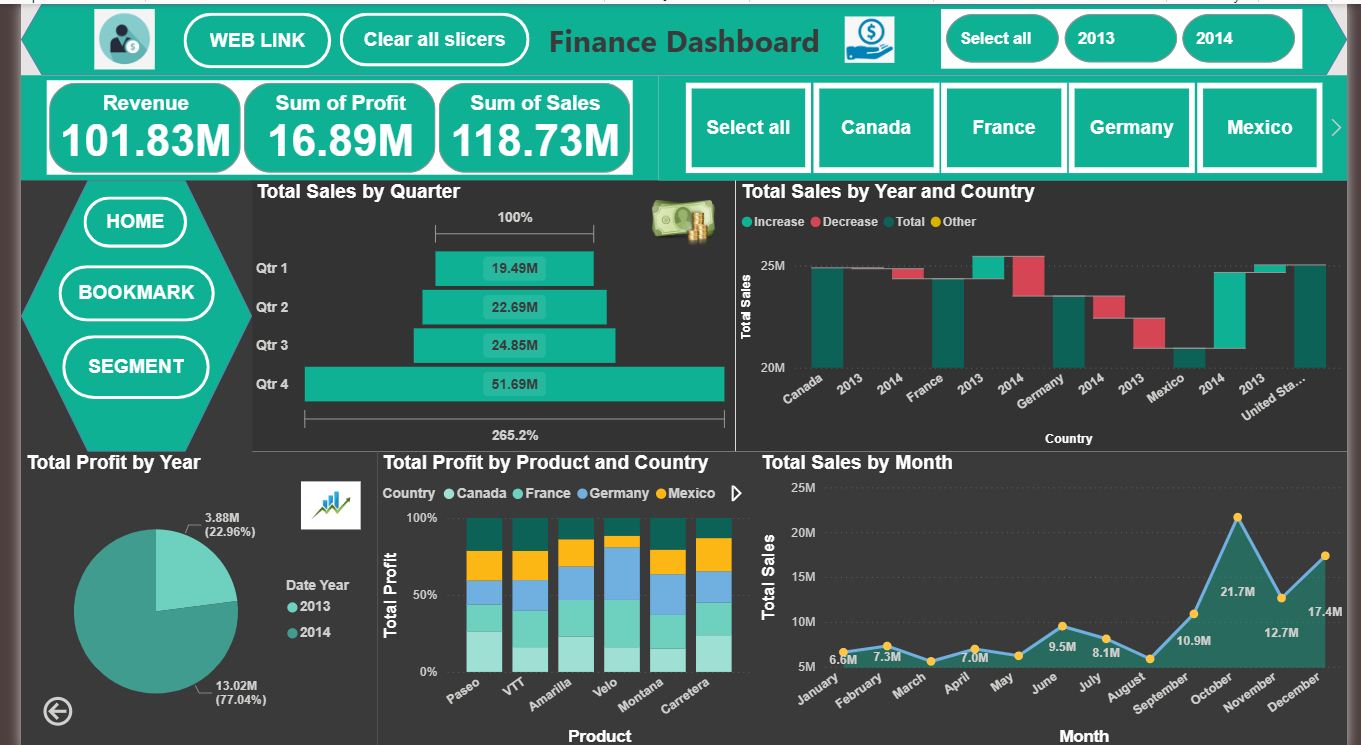

Layout of this report page (visuals, bound fields, positions):
{"tool":"powerbi","page":{"name":"Dash Board","canvas":[1280,720],"ordinal":9},"visuals":[{"type":"cardVisual","fields":{"Data":["financials.Revenue","Sum(financials.Profit)","Sum(financials. Sales)"]},"box":[0,68.5,615.1,101.5],"z":0},{"type":"actionButton","box":[58.7,8.6,151.6,53.8],"z":1000},{"type":"waterfallChart","title":"Total Sales by Year and Country","fields":{"Category":["financials.Country"],"Y":["Sum(financials. Sales)"],"Breakdown":["financials.Date.Variation.Date Hierarchy.Year"]},"box":[689.7,170,590.6,261.7],"z":2000},{"type":"funnel","title":"Total  Sales by Quarter","fields":{"Category":["financials.Date.Variation.Date Hierarchy.Quarter"],"Y":["Sum(financials. Sales)"]},"box":[222.6,170,467.1,261.7],"z":3000},{"type":"actionButton","box":[17.1,14.7,41.6,40.4],"z":4000},{"type":"hundredPercentStackedColumnChart","title":"Total Profit by Product and Country","fields":{"Category":["financials.Product"],"Y":["Sum(financials.Profit)"],"Series":["financials.Country"]},"box":[343.6,431.7,365.6,288.6],"z":5000},{"type":"stackedAreaChart","title":"Total Sales by Month","fields":{"Y":["Sum(financials. Sales)"],"Category":["financials.Date.Variation.Date Hierarchy.Month"]},"box":[709.2,431.7,571.1,288.6],"z":6000},{"type":"shape","box":[0,0,1280.3,68.5],"z":7000},{"type":"advancedSlicerVisual","fields":{"Values":["financials.Date.Variation.Date Hierarchy.Year"]},"box":[887.8,4.9,348.5,57.5],"z":8000},{"type":"pieChart","title":"Total Profit by Year","fields":{"Y":["Sum(financials.Profit)"],"Category":["financials.Date.Variation.Date Hierarchy.Year"]},"box":[0,431.9,343.8,288.3],"z":9000},{"type":"slicer","fields":{"Values":["financials.Country"]},"box":[615.1,68.5,665.2,101.5],"z":10000},{"type":"image","box":[790.2,0,57.9,68.8],"z":11000},{"type":"image","box":[603.2,170.1,72.4,82],"z":12000},{"type":"image","box":[265.4,441.4,67.3,85.6],"z":13000},{"type":"actionButton","box":[16.9,662.3,37.4,41],"z":14000},{"type":"shape","box":[0,170,223,262],"z":15000},{"type":"actionButton","box":[60.3,185.8,100.1,49.5],"z":16000},{"type":"actionButton","box":[36.2,252.1,150.8,54.3],"z":17000},{"type":"actionButton","box":[307.6,8.4,183.4,51.9],"z":18000},{"type":"image","box":[64.8,0,69.7,68.5],"z":19000},{"type":"actionButton","box":[156.5,8.6,143.1,53.8],"z":20000},{"type":"actionButton","box":[39.8,319.7,142.4,61.5],"z":21000}]}

Visuals, with their boxes in screenshot pixels (x1, y1, x2, y2), scaled from the page's 1280x720 canvas onto the 1361x745 screenshot:
cardVisual - financials.Revenue x Sum(financials.Profit): <region>0, 71, 654, 176</region>
actionButton: <region>62, 9, 224, 65</region>
"Total Sales by Year and Country" waterfallChart: <region>733, 176, 1360, 447</region>
"Total  Sales by Quarter" funnel: <region>237, 176, 733, 447</region>
actionButton: <region>18, 15, 62, 57</region>
"Total Profit by Product and Country" hundredPercentStackedColumnChart: <region>365, 447, 754, 744</region>
"Total Sales by Month" stackedAreaChart: <region>754, 447, 1360, 744</region>
shape: <region>0, 0, 1360, 71</region>
advancedSlicerVisual - financials.Date.Variation.Date Hierarchy.Year: <region>944, 5, 1315, 65</region>
"Total Profit by Year" pieChart: <region>0, 447, 366, 744</region>
slicer - financials.Country: <region>654, 71, 1360, 176</region>
image: <region>840, 0, 902, 71</region>
image: <region>641, 176, 718, 261</region>
image: <region>282, 457, 354, 545</region>
actionButton: <region>18, 685, 58, 728</region>
shape: <region>0, 176, 237, 447</region>
actionButton: <region>64, 192, 171, 243</region>
actionButton: <region>38, 261, 199, 317</region>
actionButton: <region>327, 9, 522, 62</region>
image: <region>69, 0, 143, 71</region>
actionButton: <region>166, 9, 319, 65</region>
actionButton: <region>42, 331, 194, 394</region>
